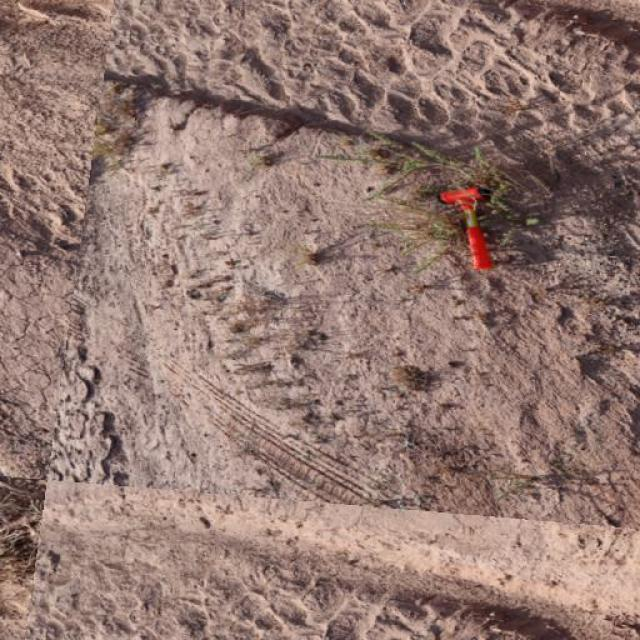mallet: (437, 184, 495, 271)
